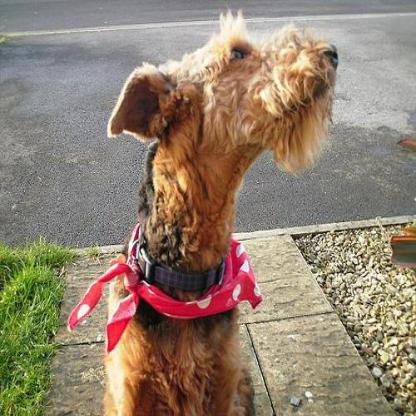dog: (93, 9, 340, 415)
